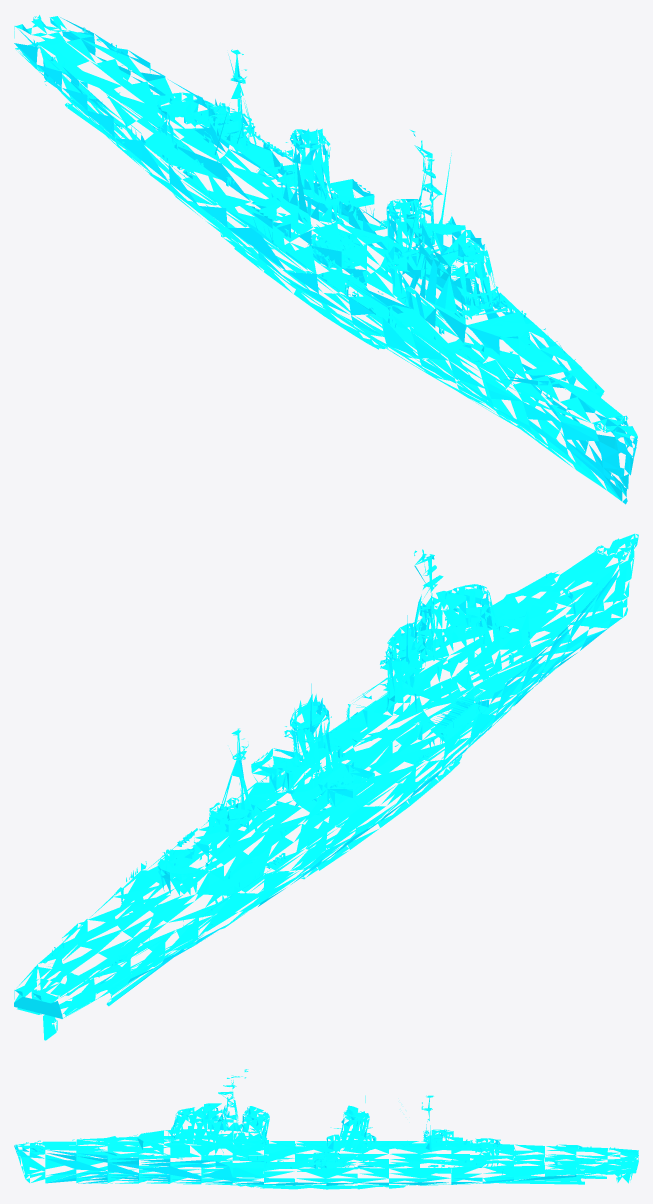
File: Delny.glb
The picture shows the model from 3 angles, top to bottom: view 1: azimuth 30°, elevation 25°; view 2: azimuth 150°, elevation 25°; view 3: azimuth 270°, elevation 25°; orthographic projection. The views are drawn at different scales.
Size of the model in its own units: 0.9205 by 1.87 by 9.34.
